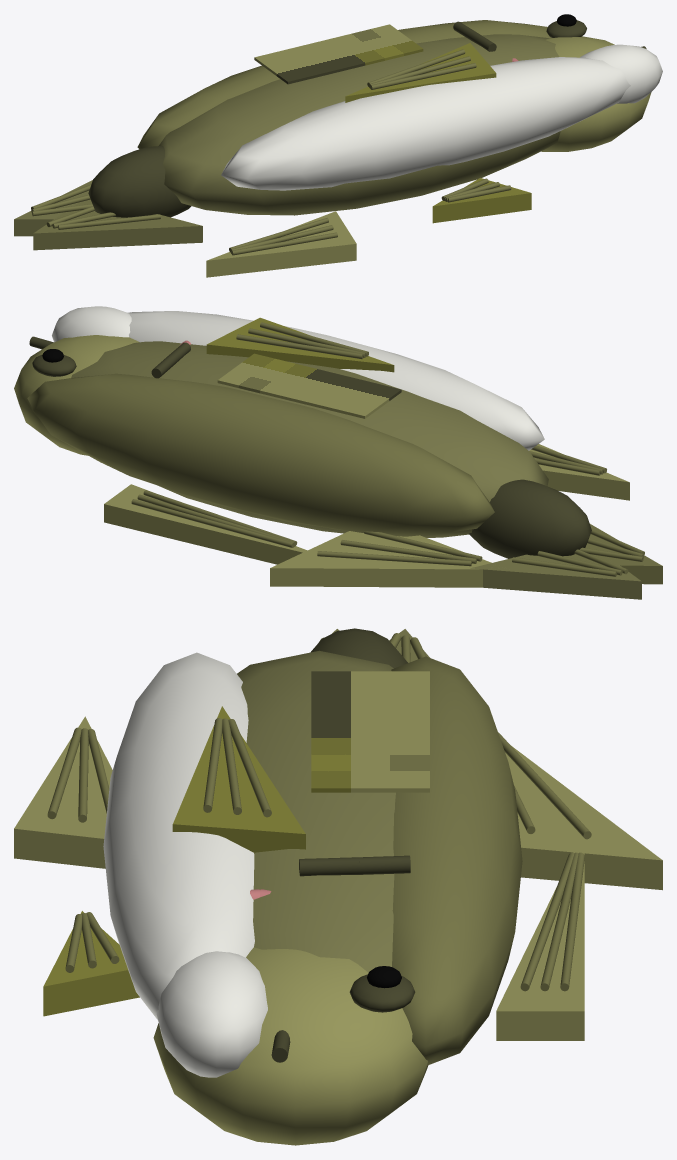
The model's file is CMU3DFishBassNaturalFinalCloud.glb.
3 renders of one model, top to bottom at view 1: azimuth 30°, elevation 25°; view 2: azimuth 150°, elevation 25°; view 3: azimuth 270°, elevation 25°, orthographic. The views are drawn at different scales.
Visible parts, largest first — view 1: pale lower belly volume, continuous olive fish body, olive arched dorsal flank, original central bass scale mottling, narrow caudal peduncle, lower tail fan triangular fan, lower anal fin triangular fan, rounded right head and snout, pale jaw below mouth, small pelvic fin triangular fan, near side pectoral fin triangular fan, upper tail fan triangular fan (+8 smaller); view 2: olive arched dorsal flank, continuous olive fish body, pale lower belly volume, large first dorsal fin triangular fan, narrow caudal peduncle, original central bass scale mottling, long second dorsal fin triangular fan, upper tail fan triangular fan, rounded right head and snout, near side pectoral fin triangular fan, pale jaw below mouth, lower anal fin triangular fan (+13 smaller); view 3: olive arched dorsal flank, pale lower belly volume, rounded right head and snout, continuous olive fish body, original central bass scale mottling, pale jaw below mouth, large first dorsal fin triangular fan, near side pectoral fin triangular fan, long second dorsal fin triangular fan, lower anal fin triangular fan, small pelvic fin triangular fan, narrow caudal peduncle (+12 smaller).
Part boxes in pixels (x1=…): pale lower belly volume: x1=221, y1=57, x2=630, y2=190; continuous olive fish body: x1=159, y1=34, x2=560, y2=215; olive arched dorsal flank: x1=137, y1=20, x2=550, y2=149; original central bass scale mottling: x1=254, y1=24, x2=423, y2=84; narrow caudal peduncle: x1=88, y1=146, x2=191, y2=217; lower tail fan triangular fan: x1=33, y1=199, x2=202, y2=250; lower anal fin triangular fan: x1=206, y1=211, x2=356, y2=277; rounded right head and snout: x1=541, y1=36, x2=651, y2=151; pale jaw below mouth: x1=580, y1=44, x2=662, y2=103; small pelvic fin triangular fan: x1=432, y1=178, x2=531, y2=223; near side pectoral fin triangular fan: x1=345, y1=43, x2=496, y2=102; upper tail fan triangular fan: x1=14, y1=180, x2=117, y2=236; olive arched dorsal flank: x1=27, y1=373, x2=494, y2=536; continuous olive fish body: x1=71, y1=341, x2=548, y2=537; pale lower belly volume: x1=128, y1=311, x2=544, y2=450; large first dorsal fin triangular fan: x1=270, y1=531, x2=491, y2=587; narrow caudal peduncle: x1=469, y1=479, x2=591, y2=558; original central bass scale mottling: x1=217, y1=353, x2=401, y2=418; long second dorsal fin triangular fan: x1=104, y1=484, x2=331, y2=564; upper tail fan triangular fan: x1=470, y1=554, x2=641, y2=599; rounded right head and snout: x1=14, y1=335, x2=139, y2=455; near side pectoral fin triangular fan: x1=206, y1=317, x2=394, y2=372; pale jaw below mouth: x1=52, y1=306, x2=131, y2=342; lower anal fin triangular fan: x1=529, y1=444, x2=629, y2=500; olive arched dorsal flank: x1=391, y1=656, x2=522, y2=1065; pale lower belly volume: x1=103, y1=652, x2=254, y2=1019; rounded right head and snout: x1=153, y1=947, x2=428, y2=1145; continuous olive fish body: x1=237, y1=650, x2=395, y2=972; original central bass scale mottling: x1=311, y1=671, x2=429, y2=792; pale jaw below mouth: x1=156, y1=951, x2=267, y2=1077; large first dorsal fin triangular fan: x1=505, y1=745, x2=662, y2=890; near side pectoral fin triangular fan: x1=172, y1=706, x2=305, y2=852; long second dorsal fin triangular fan: x1=496, y1=842, x2=584, y2=1040; lower anal fin triangular fan: x1=14, y1=716, x2=112, y2=868; small pelvic fin triangular fan: x1=43, y1=911, x2=139, y2=1016; narrow caudal peduncle: x1=310, y1=628, x2=407, y2=668.
Bounding box in the file's own units: 0.9672 × 0.2 × 0.5137.
10 materials, 2 textured.
